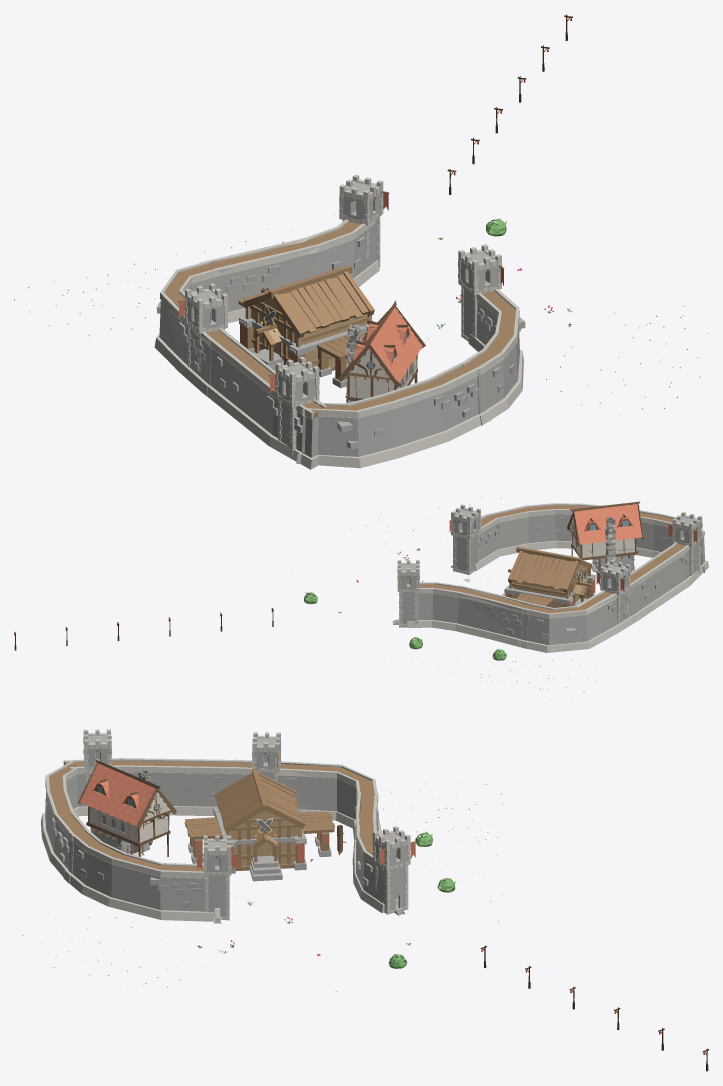
The model's file is chunk_0_0_lod0.glb.
3 renders of one model, top to bottom at view 1: azimuth 30°, elevation 25°; view 2: azimuth 150°, elevation 25°; view 3: azimuth 270°, elevation 25°, orthographic. The views are drawn at different scales.
Visible parts, largest first — view 1: Batched_Chunk_0_0; view 2: Batched_Chunk_0_0; view 3: Batched_Chunk_0_0.
Part boxes in pixels (x1,y1,x2,y2): Batched_Chunk_0_0: (14,14,708,469); Batched_Chunk_0_0: (14,498,708,700); Batched_Chunk_0_0: (22,729,708,1071).
Bounding box in the file's own units: 110 × 14.09 × 112.
